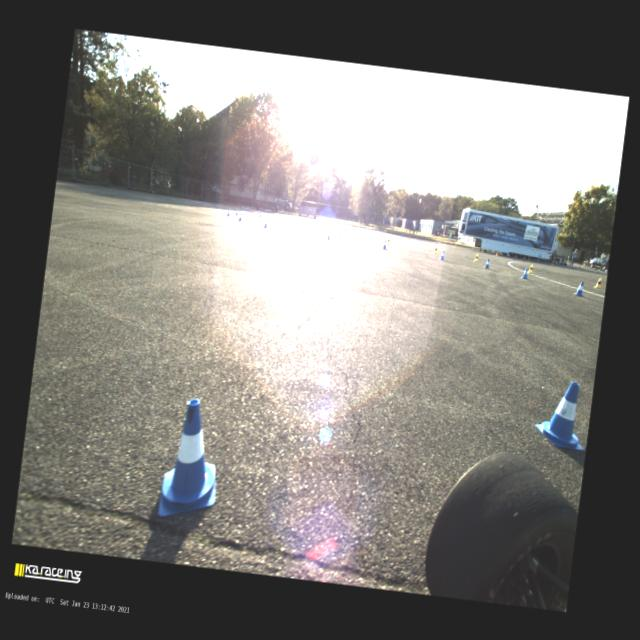blue_cone: (157, 396, 225, 522), (532, 377, 590, 449), (573, 280, 585, 296), (520, 266, 528, 278), (382, 238, 388, 250), (483, 258, 490, 268), (440, 249, 446, 260), (326, 230, 331, 240), (237, 212, 242, 221), (264, 218, 268, 228), (226, 208, 230, 216), (234, 208, 238, 215), (258, 211, 262, 217), (435, 240, 438, 244), (244, 207, 247, 210), (242, 205, 244, 209), (246, 206, 248, 210), (380, 230, 382, 234), (402, 234, 404, 238), (508, 253, 510, 257), (537, 258, 539, 262), (571, 264, 573, 268), (596, 268, 598, 272), (257, 210, 259, 213), (264, 209, 266, 212), (472, 247, 474, 250), (366, 227, 367, 231), (351, 225, 352, 228)
yellow_cone: (592, 276, 602, 288), (432, 245, 438, 253), (528, 264, 533, 273), (474, 252, 478, 262), (386, 237, 390, 245), (338, 229, 342, 237), (526, 256, 530, 261), (495, 250, 498, 256), (578, 264, 580, 270), (288, 212, 290, 216), (383, 230, 385, 234), (408, 236, 410, 240), (454, 244, 456, 248), (551, 262, 553, 266), (283, 213, 284, 217), (348, 224, 349, 227), (361, 227, 362, 230)
